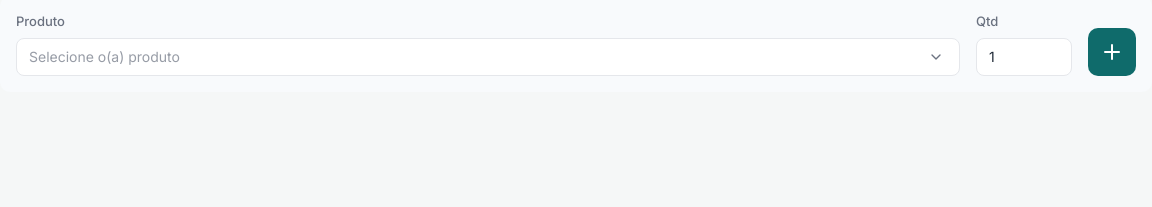
Test: <ProductItemForm> › adiciona com a quantidade escolhida e limpa o formulário
Step 1. Click the dropdown → click(488, 56), box [16,38,960,76]
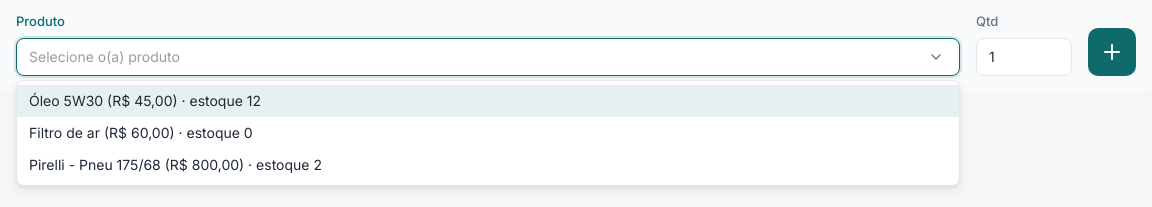
Step 2. Click the option "Óleo 5W30 (R$ 45,00) · estoque 12" → click(145, 100), box [17,85,959,117]
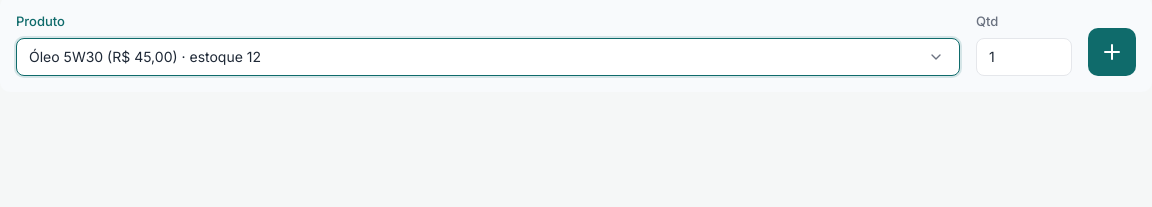
Step 3. Replace the text in the number field labelled "Qtd" with "4" → (1024, 56), box [976,38,1072,76]
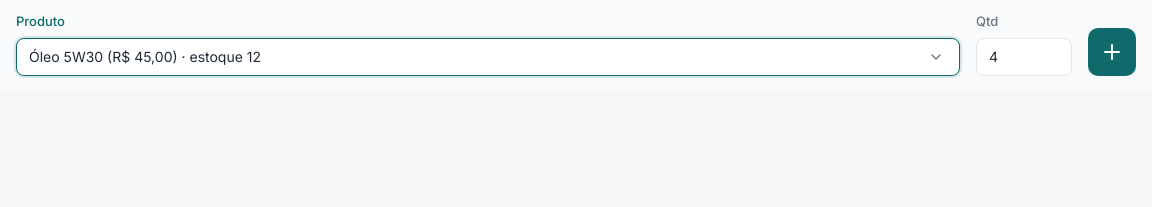
Step 4. Click the button named "Adicionar produto" → click(1112, 52), box [1088,28,1136,76]
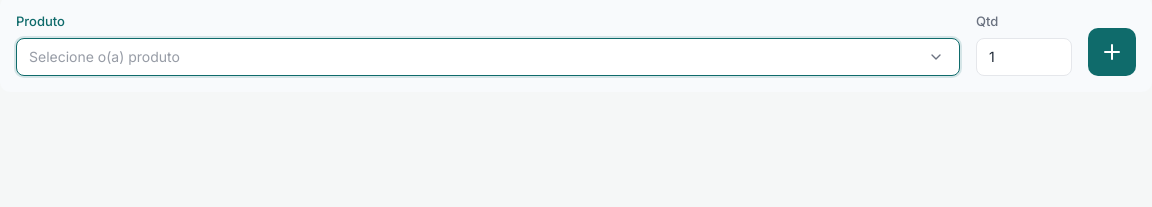
Check: the number field labelled "Qtd" holds "1", box [976,38,1072,76]
